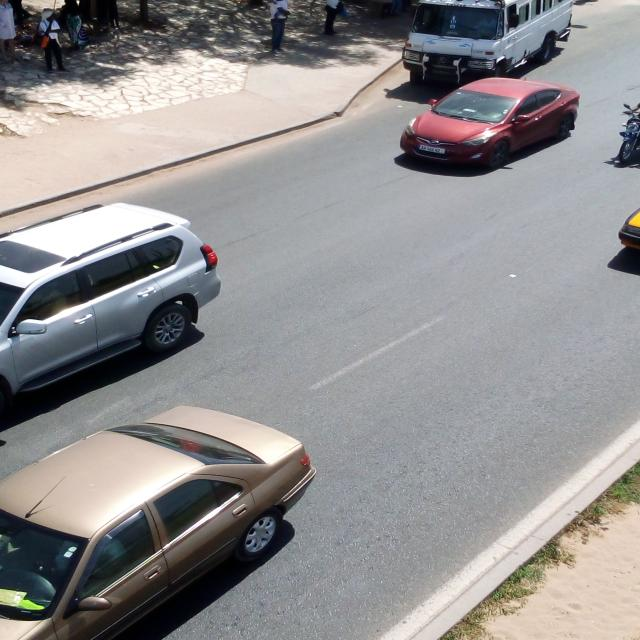moto: (619, 105, 640, 165)
ndiaga ndiaye: (404, 1, 574, 85)
particulier: (1, 407, 316, 640), (1, 205, 221, 400), (401, 79, 581, 169)
taxi: (619, 211, 640, 251)
